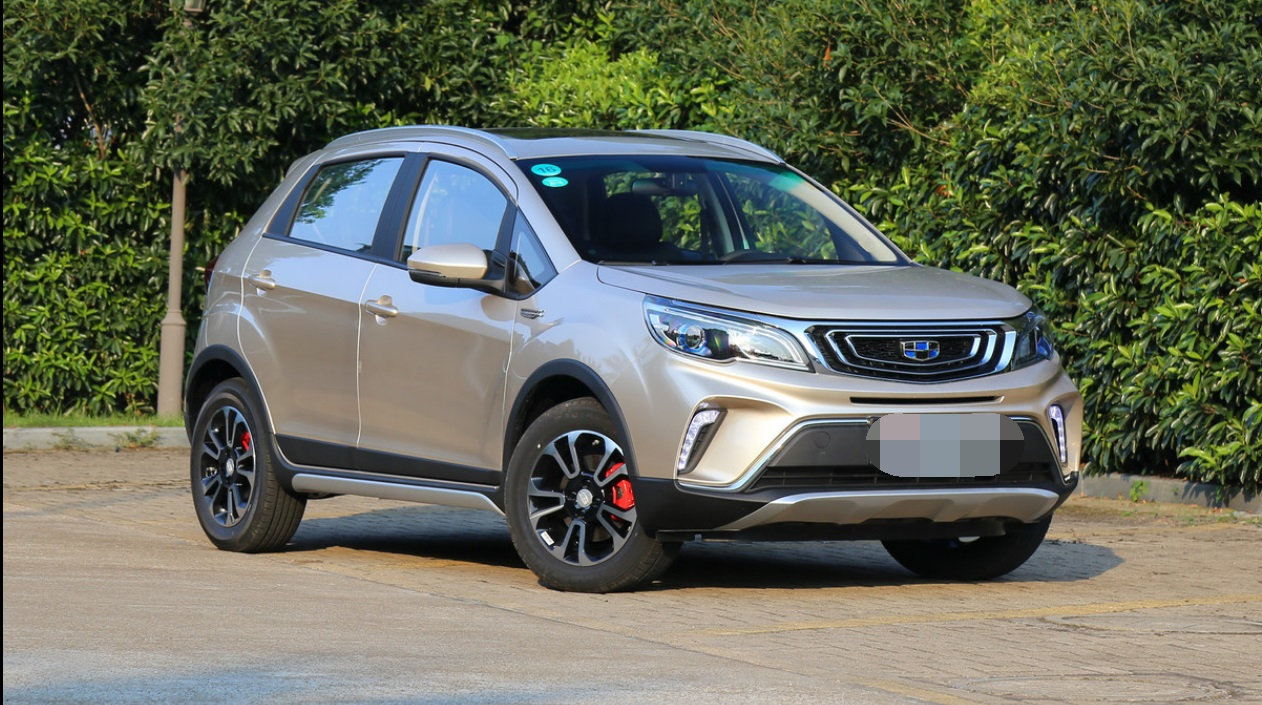SUV: (184, 117, 1089, 600)
